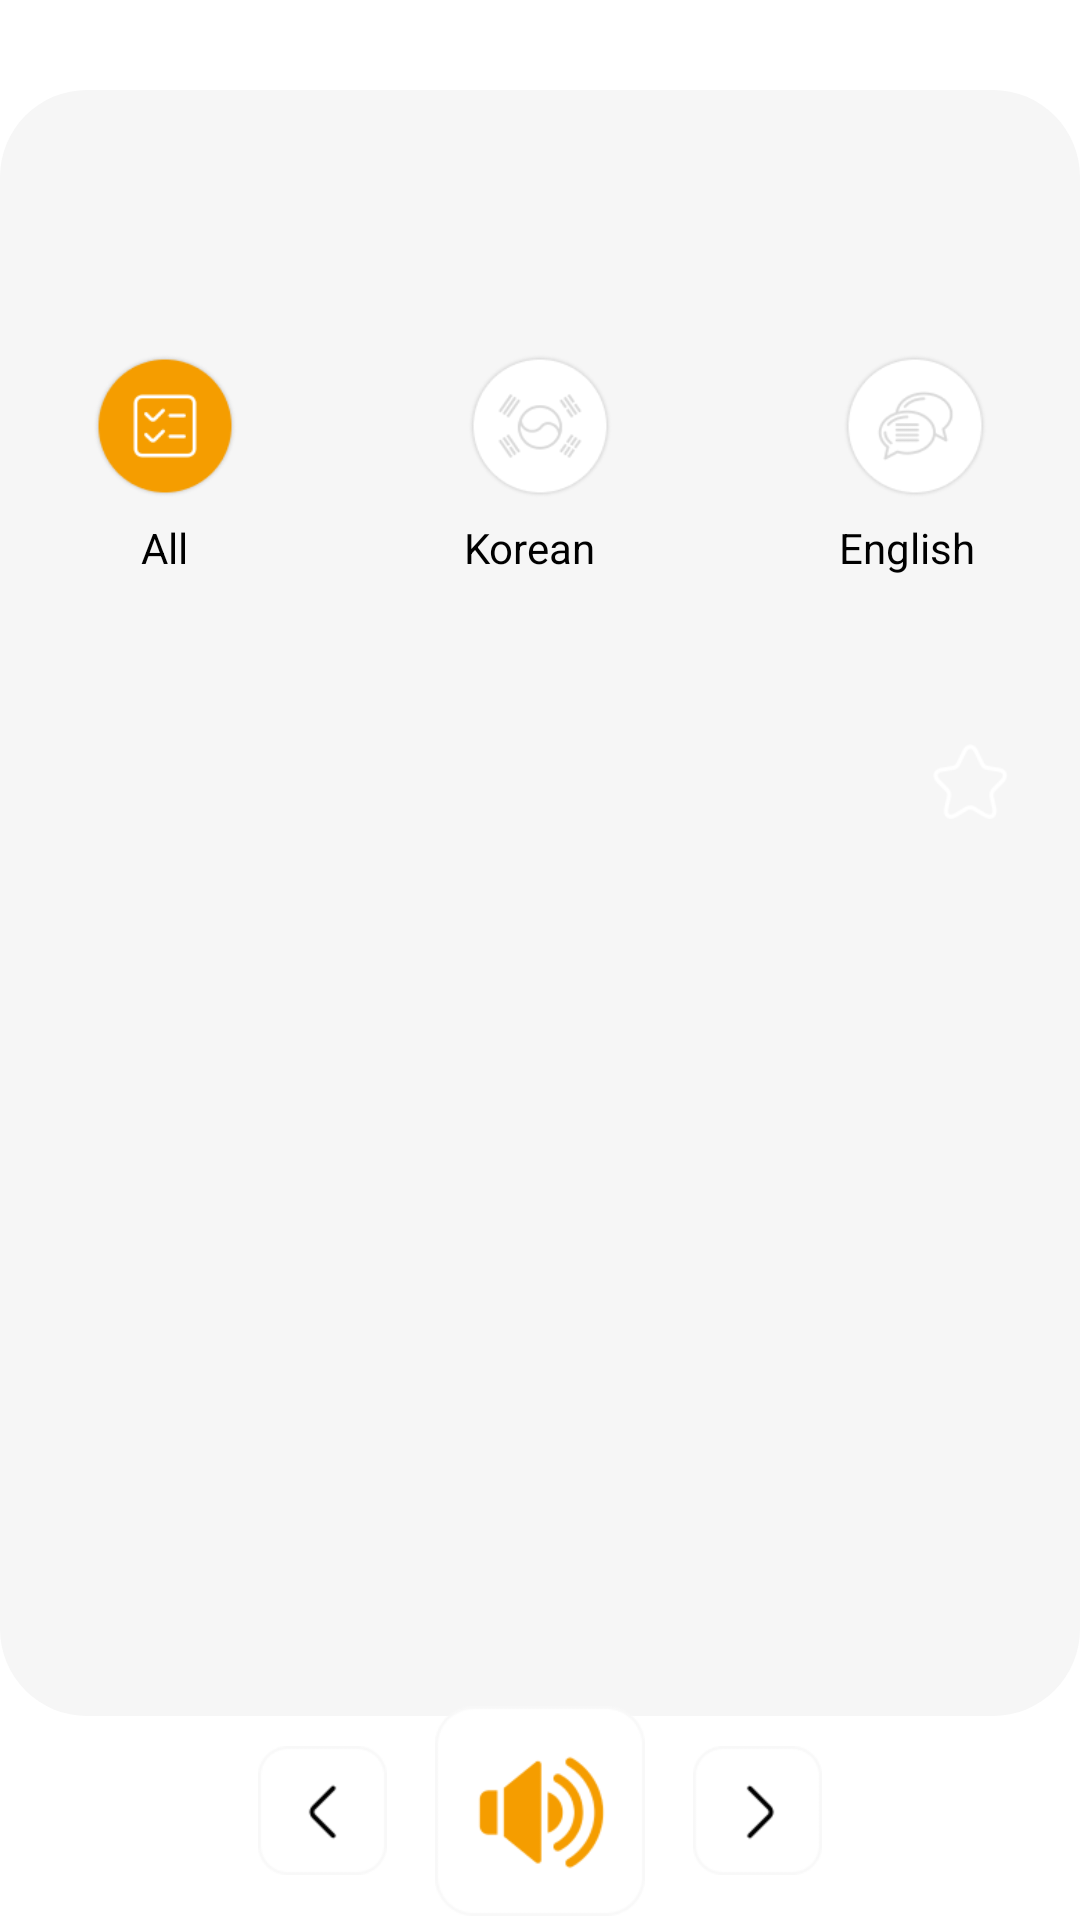

Locate icon controls on the screen. Image size 1080px×1920px, boxes as (x1, y1, x2, y2).
sound: (479, 1757, 604, 1868)
